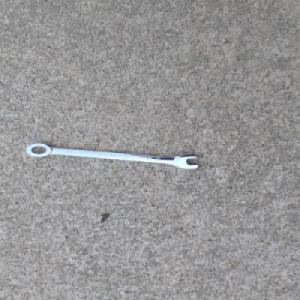Wrench: (24, 142, 200, 170)
